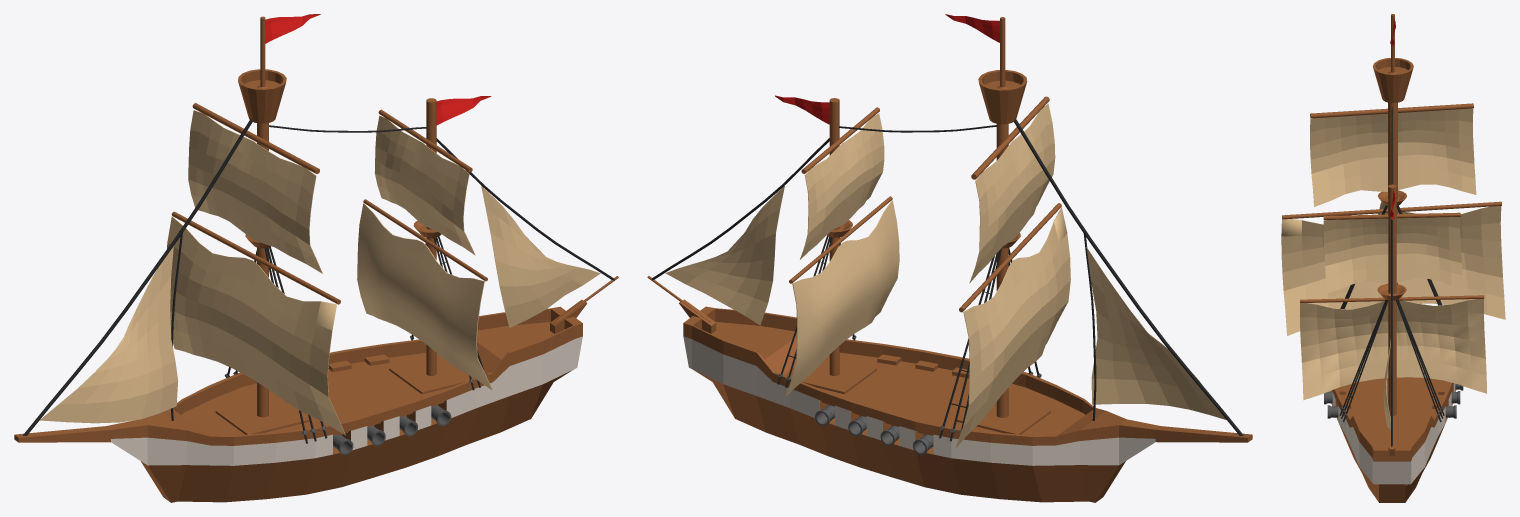
File: barco.fbx
3 views of the same model, side by side, from view 1: azimuth 30°, elevation 25°; view 2: azimuth 150°, elevation 25°; view 3: azimuth 270°, elevation 25° (orthographic). The views are drawn at different scales.
Visible parts, largest first — view 1: Cube; view 2: Cube; view 3: Cube.
Boxes of the visible parts, bbox=[...] form: Cube: bbox=[14, 14, 618, 502]; Cube: bbox=[647, 14, 1252, 502]; Cube: bbox=[1281, 14, 1505, 502].
Bounding box in the file's own units: 875 × 636 × 338.
